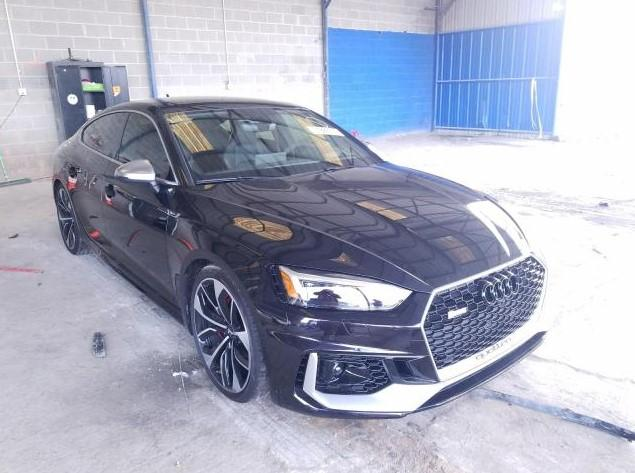Back-door: (65, 140, 114, 253)
Back-wheel: (56, 183, 97, 256)
Back-window: (82, 114, 129, 158)
Fender: (167, 186, 435, 337)
Front-bumper: (229, 267, 548, 419)
Front-door: (101, 110, 182, 310)
Front-wheel: (190, 263, 272, 403)
Front-window: (118, 113, 175, 182)
Grille: (421, 253, 549, 381)
Headlight: (272, 265, 415, 313)
Hood: (191, 162, 530, 288)
Mirror: (113, 159, 160, 193)
Quarter-panel: (52, 135, 86, 239)
Rocker-panel: (86, 232, 183, 325)
Roof: (88, 95, 306, 124)
Windshield: (165, 104, 384, 186)
